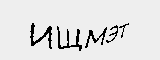И: (29, 21, 52, 51)
М: (84, 24, 106, 47)
Т: (117, 22, 132, 41)
Щ: (56, 25, 81, 51)
Э: (106, 19, 119, 44)
